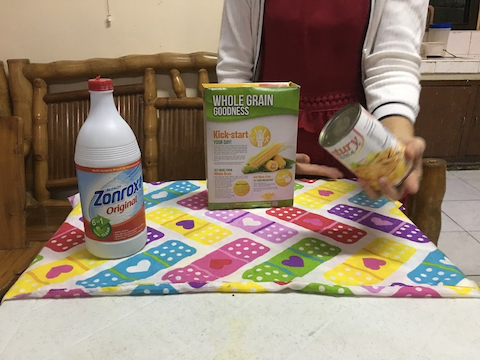bottle: (72, 72, 156, 261)
box: (197, 73, 306, 216)
can: (316, 96, 421, 197)
grab: (359, 132, 429, 208)
